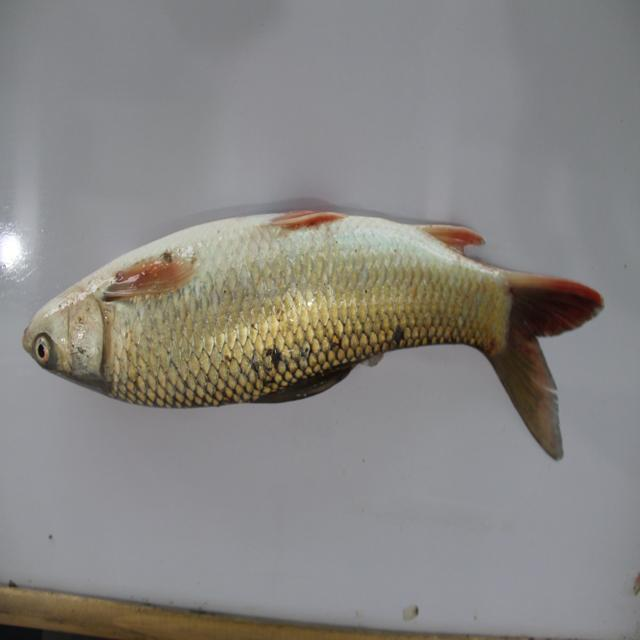Mori: (16, 176, 601, 476)
